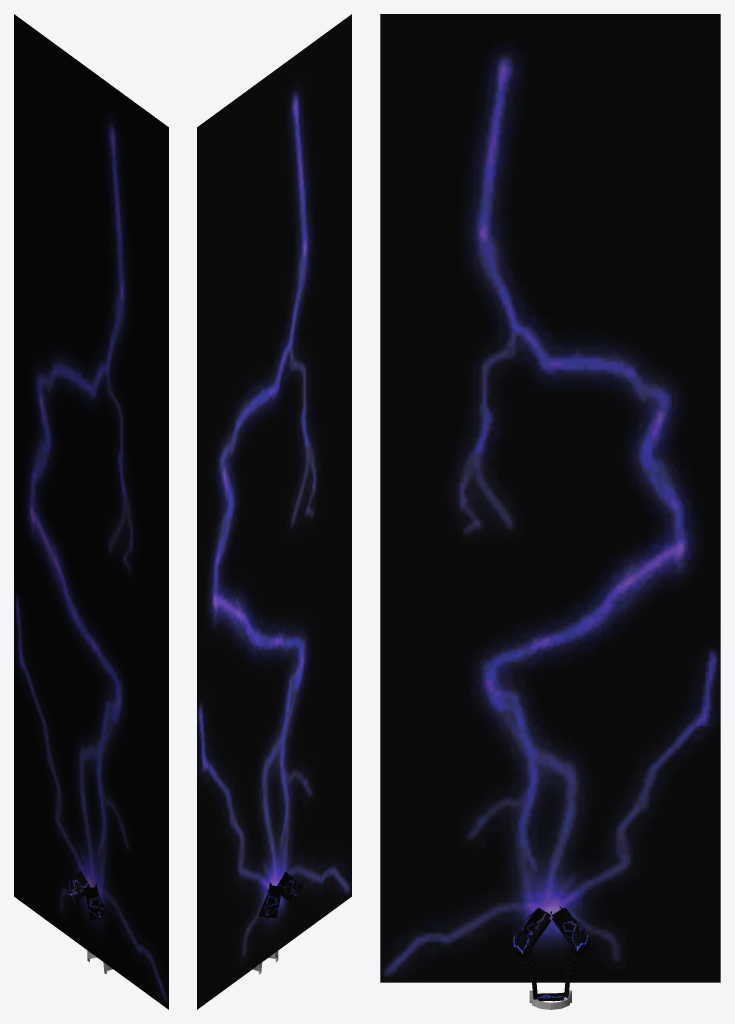
The model's file is apothecary_fx.obj.
3 renders of one model, left to right at view 1: azimuth 30°, elevation 25°; view 2: azimuth 150°, elevation 25°; view 3: azimuth 270°, elevation 25°, orthographic. The views are drawn at different scales.
Parts seen in each view (by area): view 1: APOTHECARY_FX2; view 2: APOTHECARY_FX2; view 3: APOTHECARY_FX2.
Boxes of the visible parts, bbox=[...] form: APOTHECARY_FX2: bbox=[14, 14, 168, 1009]; APOTHECARY_FX2: bbox=[197, 14, 351, 1009]; APOTHECARY_FX2: bbox=[380, 14, 720, 982].
Size of the model in its own units: 14.28 by 289 by 90.27.
Materials: 5 (5 with a texture image).
